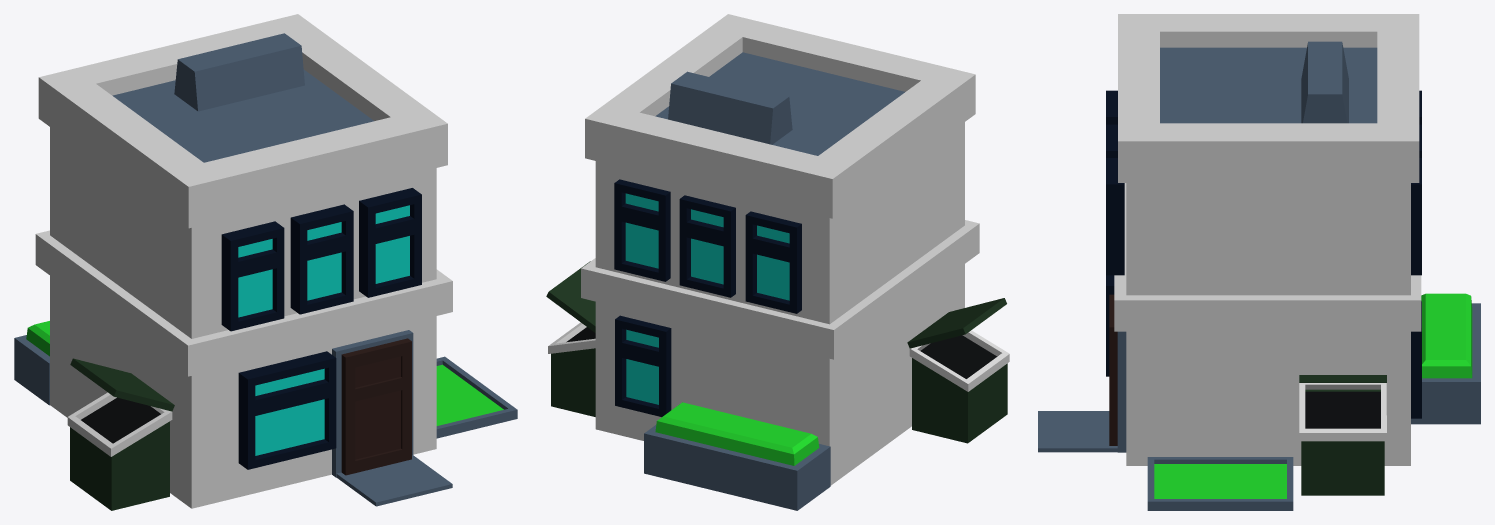
The model's file is TownHouse_5.fbx.
The picture shows the model from 3 angles, left to right: view 1: azimuth 30°, elevation 25°; view 2: azimuth 150°, elevation 25°; view 3: azimuth 270°, elevation 25°; orthographic projection. The views are drawn at different scales.
Parts seen in each view (by area): view 1: TownHouse_5; view 2: TownHouse_5; view 3: TownHouse_5.
Boxes of the visible parts, x1,y1,x2,y2 form: TownHouse_5: [14, 14, 517, 510]; TownHouse_5: [546, 14, 1009, 510]; TownHouse_5: [1038, 14, 1480, 510].
Size of the model in its own units: 32.97 by 27.4 by 31.41.
